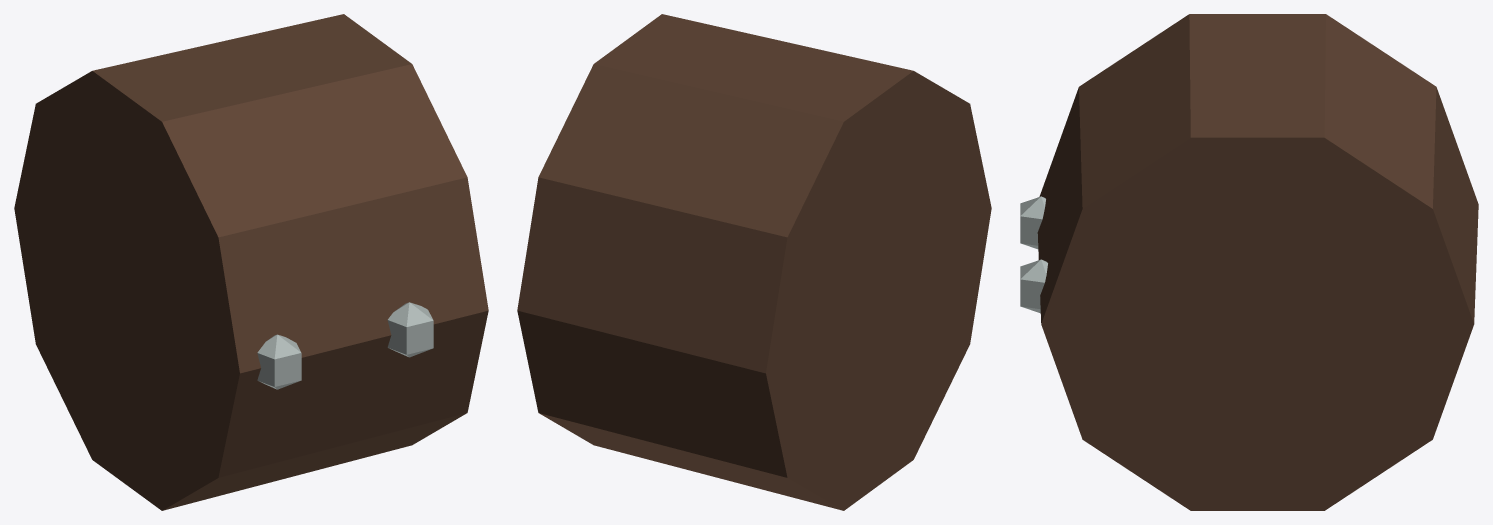
Rendered from saltreaver_bracer_l.glb.
3 renders of one model, left to right at view 1: azimuth 30°, elevation 25°; view 2: azimuth 150°, elevation 25°; view 3: azimuth 270°, elevation 25°, orthographic. The views are drawn at different scales.
Parts seen in each view (by area): view 1: saltreaver_bracer_l; view 2: saltreaver_bracer_l; view 3: saltreaver_bracer_l.
Part boxes in pixels (left/top/right/bottom): saltreaver_bracer_l: left=14, top=14, right=488, bottom=510; saltreaver_bracer_l: left=517, top=14, right=991, bottom=510; saltreaver_bracer_l: left=1020, top=14, right=1478, bottom=510.
Size of the model in its own units: 0.19 by 0.2815 by 0.307.
